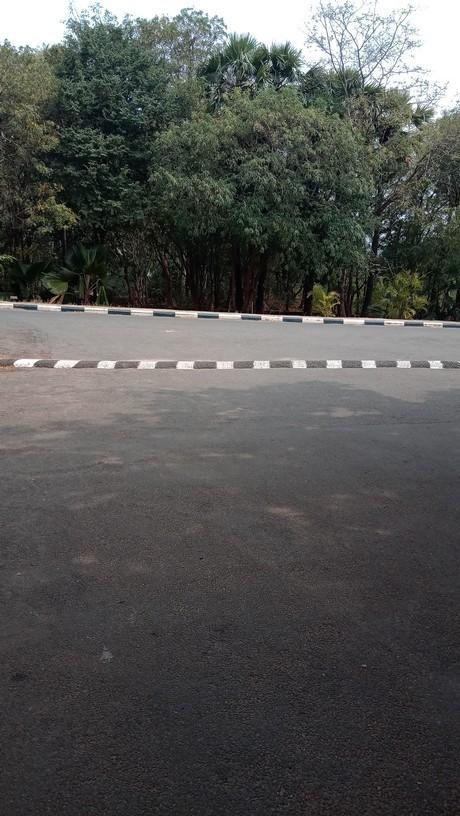speed-bump: (2, 357, 458, 370)
